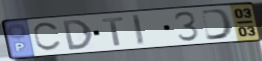3: (173, 10, 201, 42)
C: (31, 21, 63, 53)
D: (199, 8, 235, 42), (60, 18, 95, 52)
I: (129, 13, 147, 47)
T: (100, 16, 126, 48)
